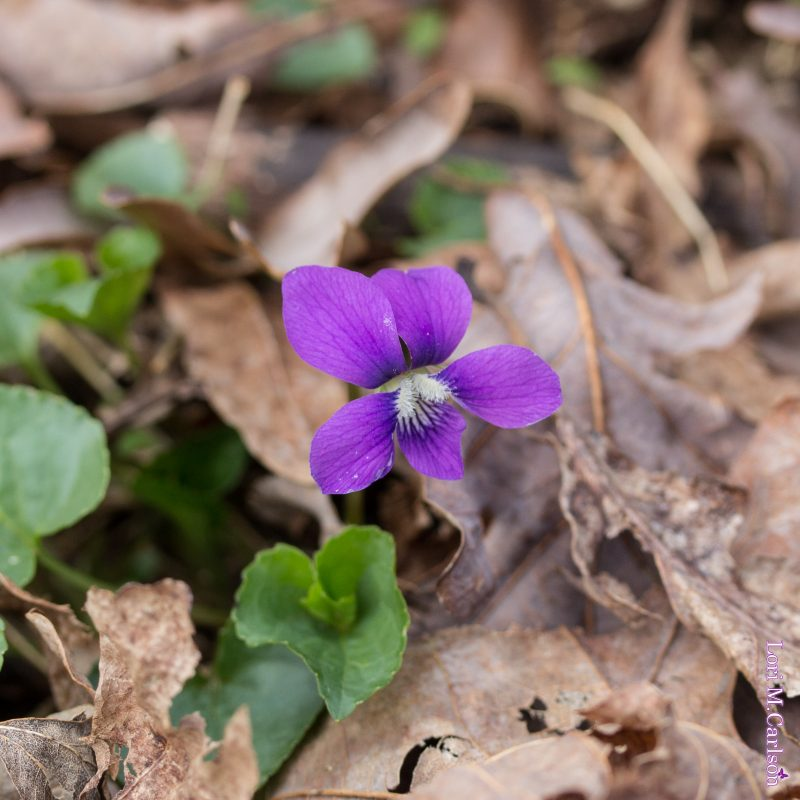violet: (258, 261, 573, 512)
